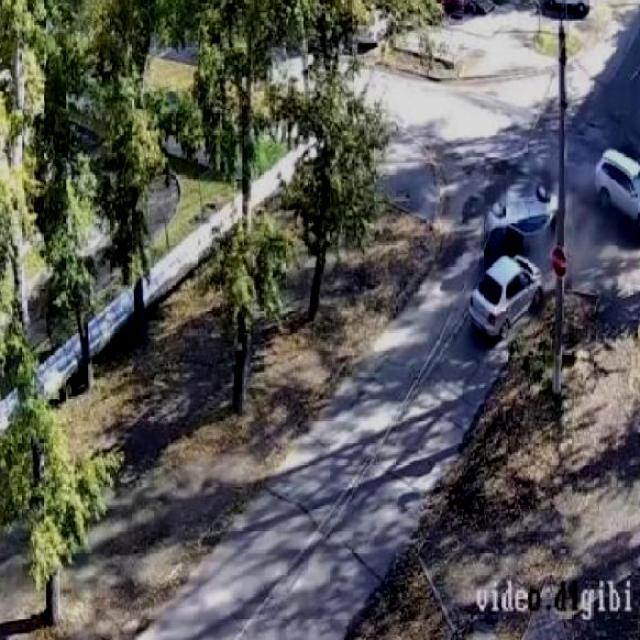accident: (486, 212, 548, 288)
